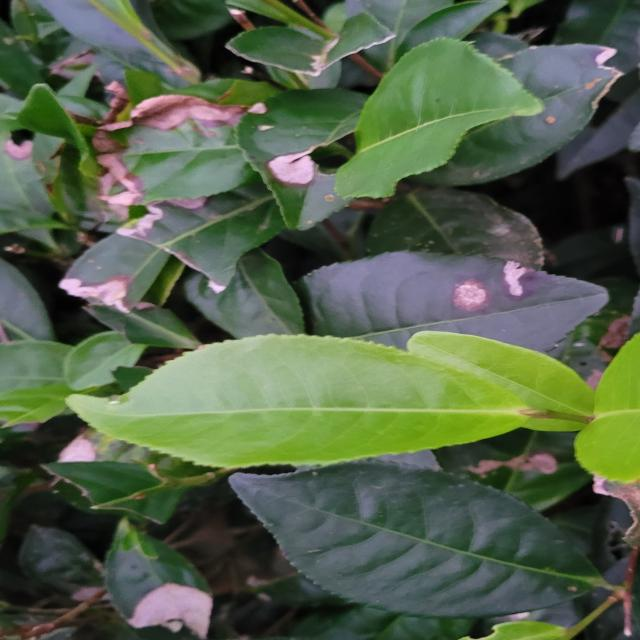Catagory A(1-2 days): (33, 316, 551, 504)
